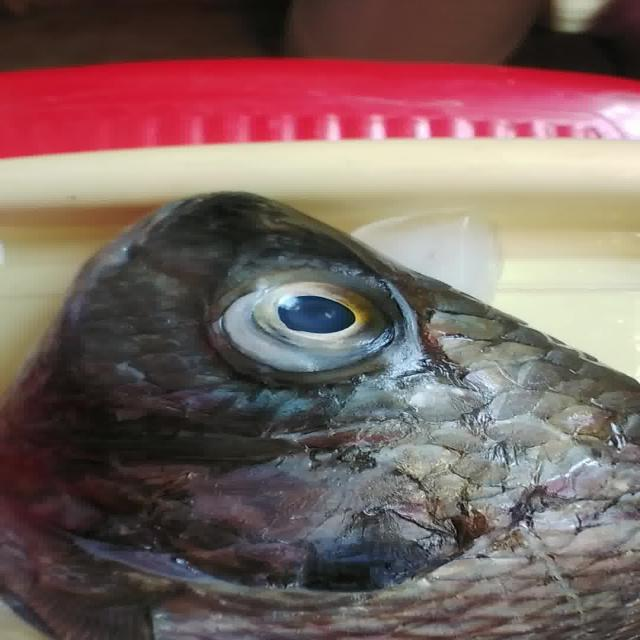Fresh: (186, 266, 452, 396)
